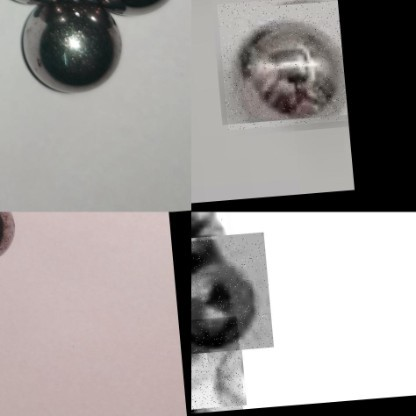ironball: (215, 0, 344, 133), (14, 1, 124, 95), (191, 233, 266, 355), (190, 317, 236, 414)
